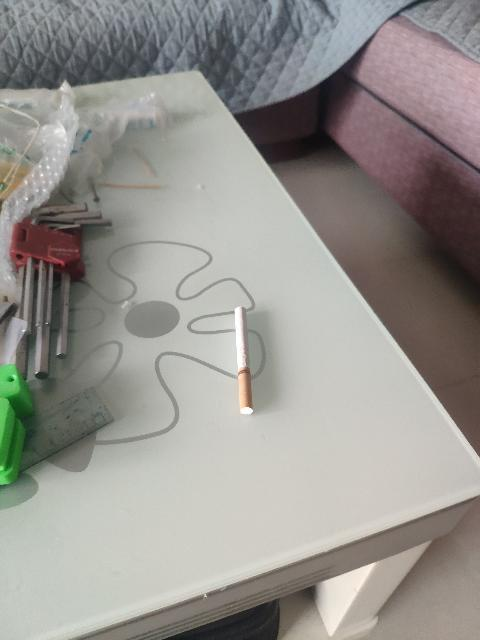Smoking: (234, 306, 255, 414)
